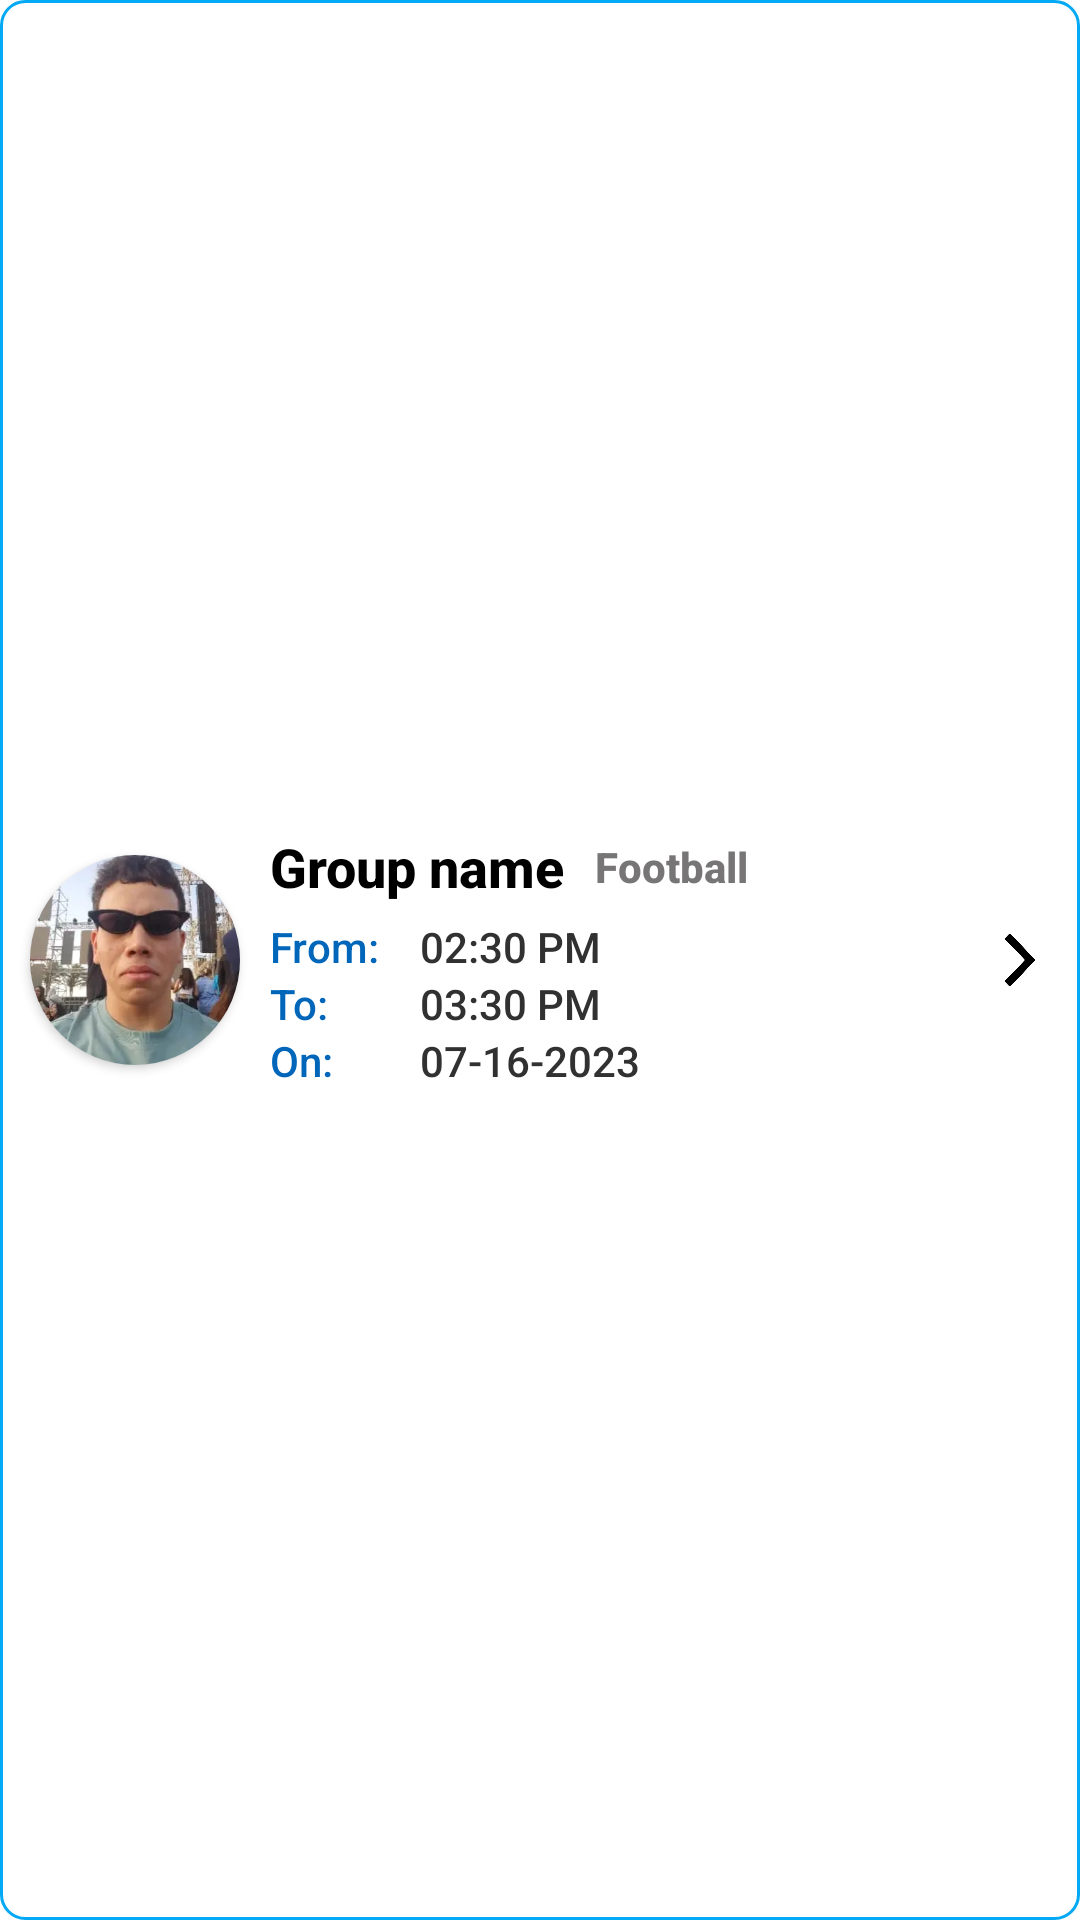

Icon bounding boxes for this 1080x1920 phone screenshot, format [x1,y1,x2,y2]:
arrow: [1005,934,1035,986]
